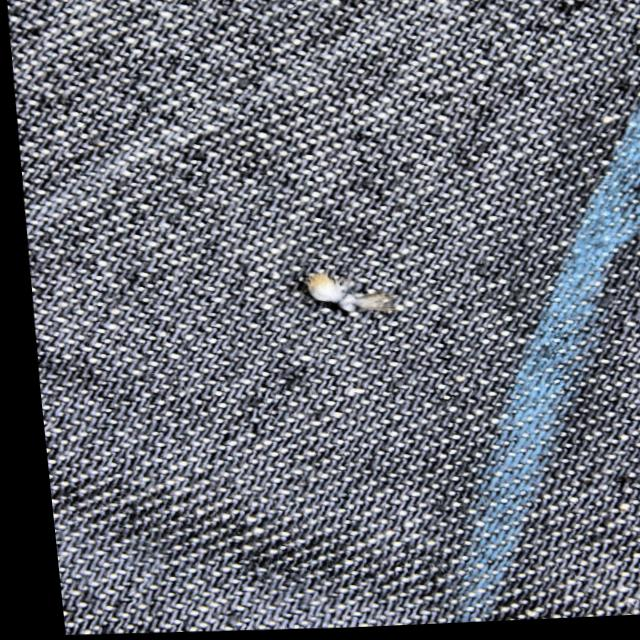Stitch: (289, 253, 418, 332)
